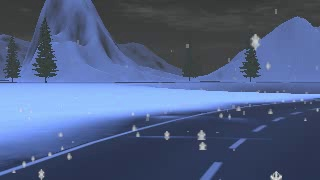Lane: (0, 100, 319, 179)
